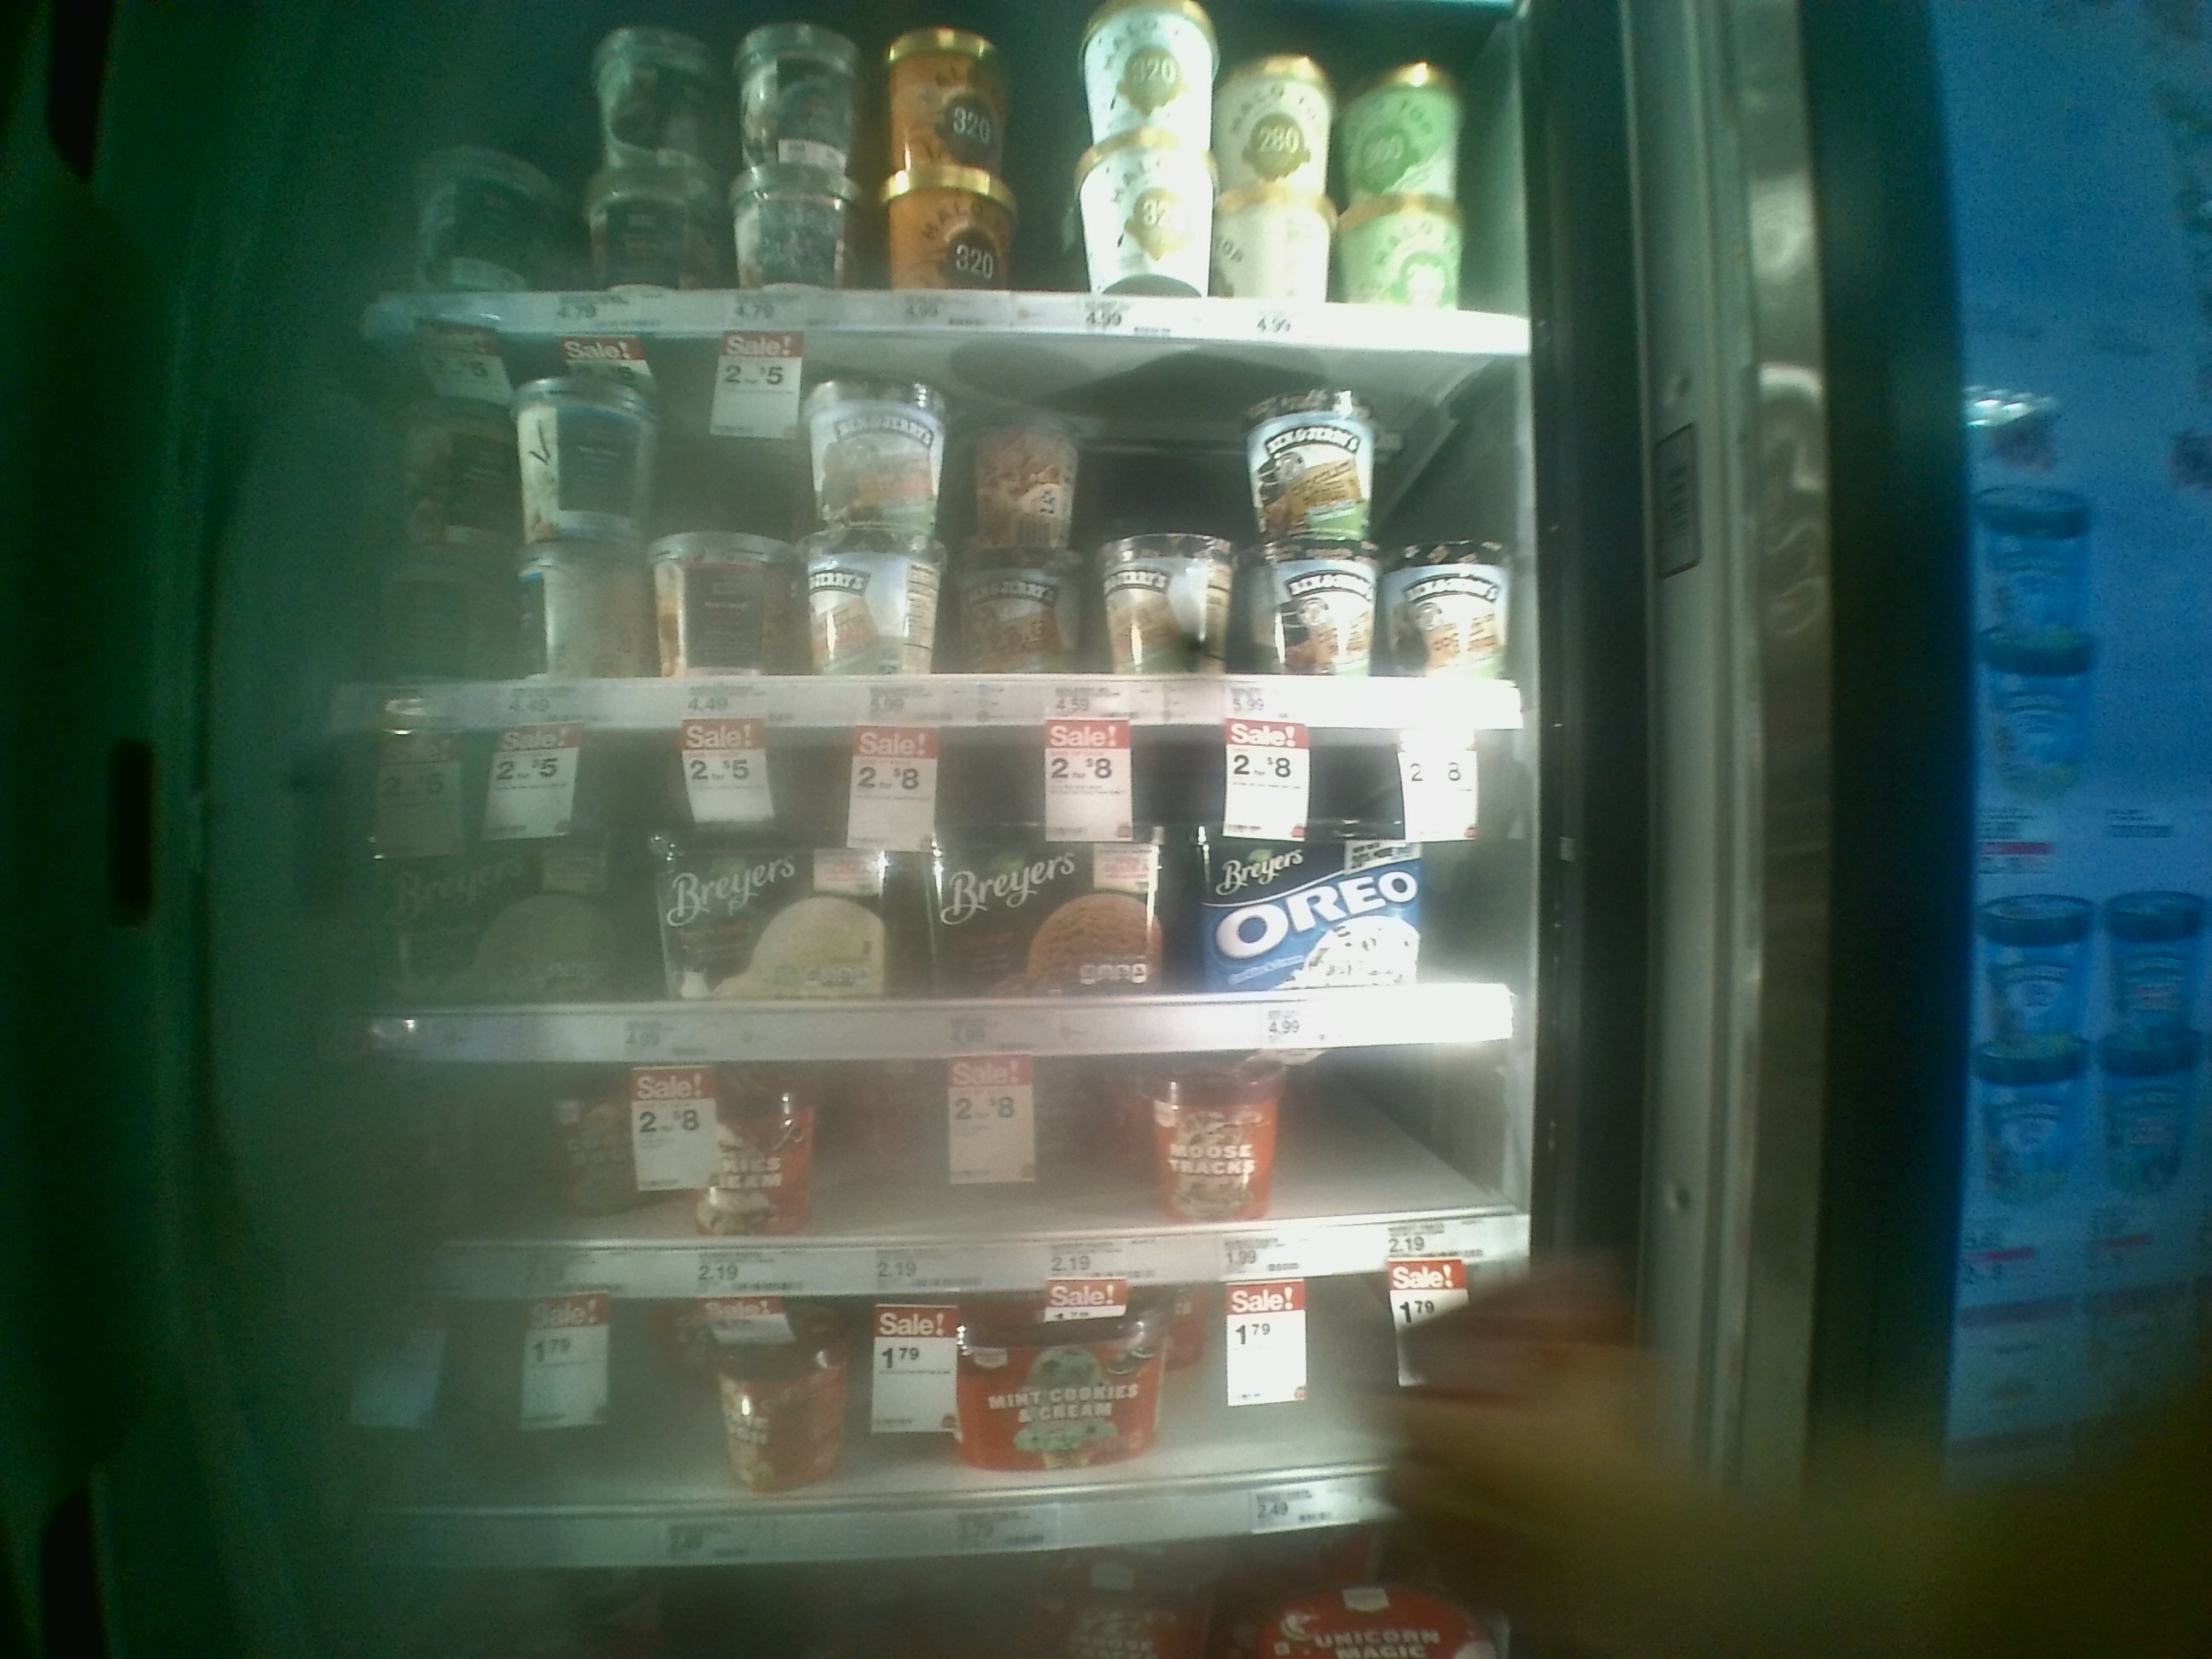ice-cream-shelf: (340, 342, 1512, 721), (326, 718, 1536, 1049), (383, 1056, 1486, 1286)
